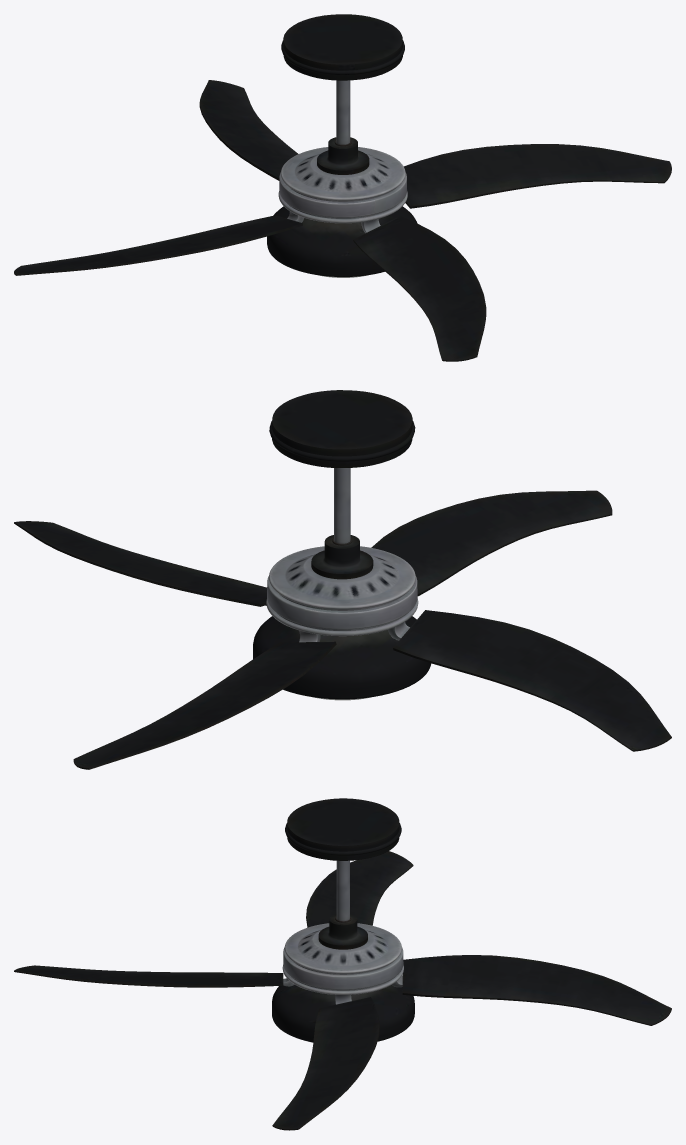
File: ceiling_fan.gltf
3 views of the same model, one above another, from view 1: azimuth 30°, elevation 25°; view 2: azimuth 150°, elevation 25°; view 3: azimuth 270°, elevation 25° (orthographic). The views are drawn at different scales.
Parts seen in each view (by area): view 1: ceiling_fan_blades, ceiling_fan; view 2: ceiling_fan_blades, ceiling_fan; view 3: ceiling_fan_blades, ceiling_fan.
Boxes of the visible parts, box(x1,y1,x2,y2) form: ceiling_fan_blades: box(14, 80, 671, 361); ceiling_fan: box(267, 14, 417, 277); ceiling_fan_blades: box(14, 490, 671, 769); ceiling_fan: box(253, 390, 431, 700); ceiling_fan_blades: box(14, 851, 671, 1130); ceiling_fan: box(272, 798, 414, 1042).
Size of the model in its own units: 1.46 by 0.5163 by 1.46.
Materials: 1 (1 with a texture image).
